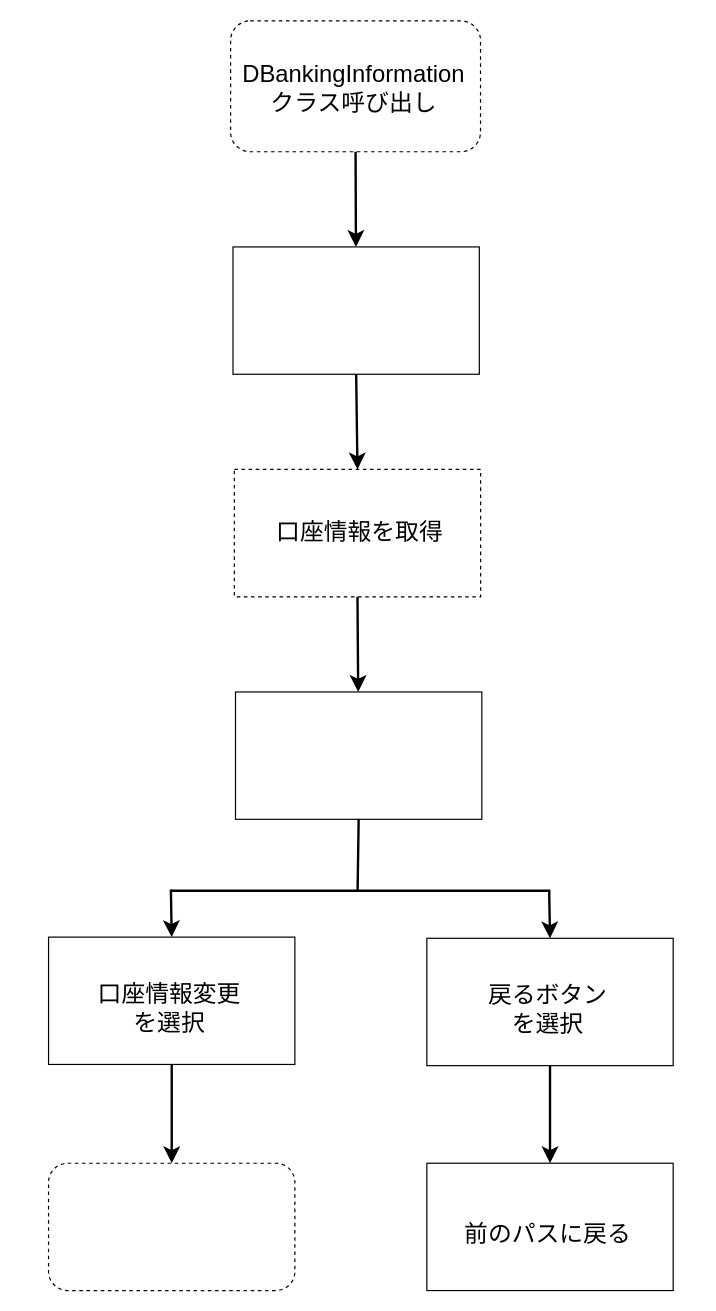
Some shapes in this 716 by 1311 pixel diagram are drawn without their labels. Each missing label, with the centre of its shape:
"APIと通信" goes at [355,310].
"DBankingInformation Changeクラス を呼び出す" goes at [171,1226].
"口座情報確認画面 を表示" goes at [358,755].
